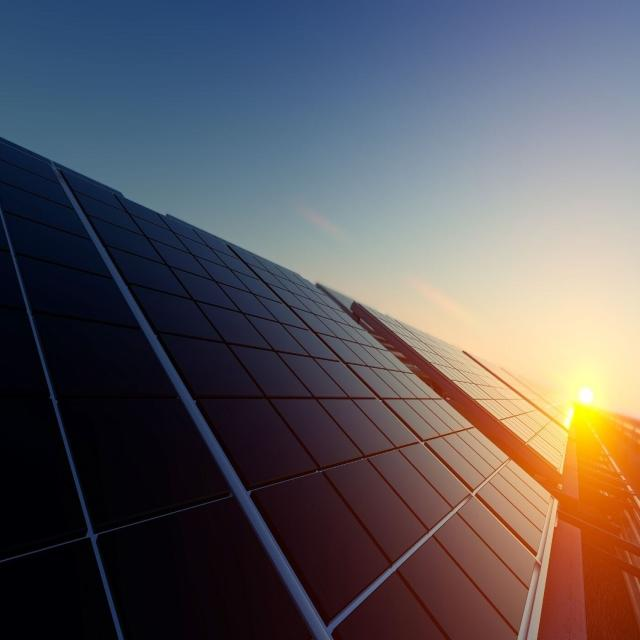clean-solar-panel: (1, 139, 568, 638)
